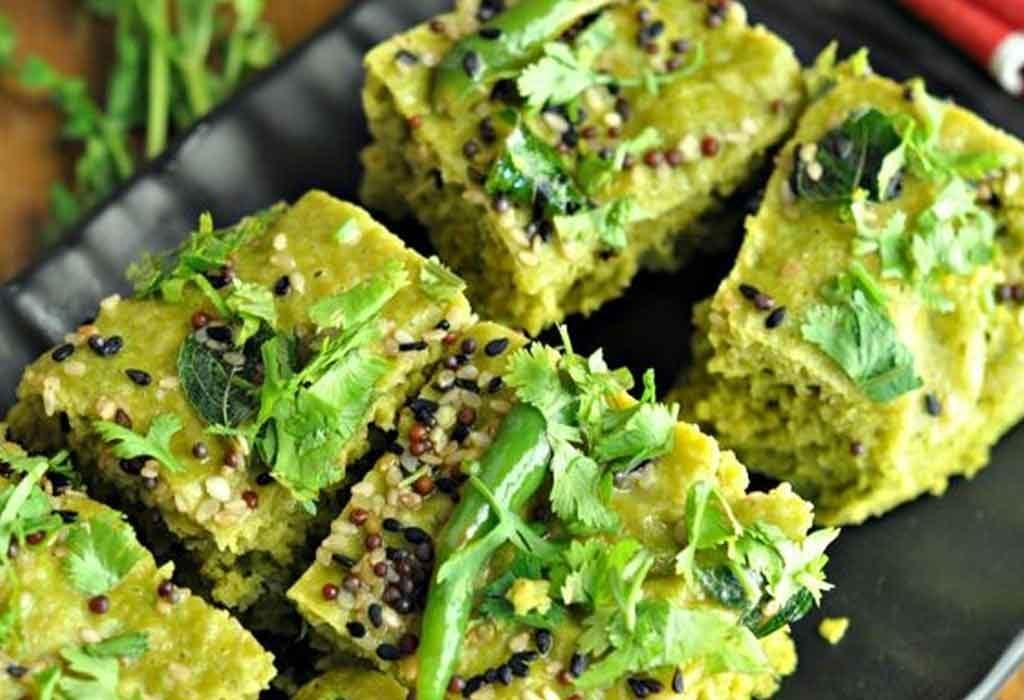dhokla: (74, 43, 976, 696)
